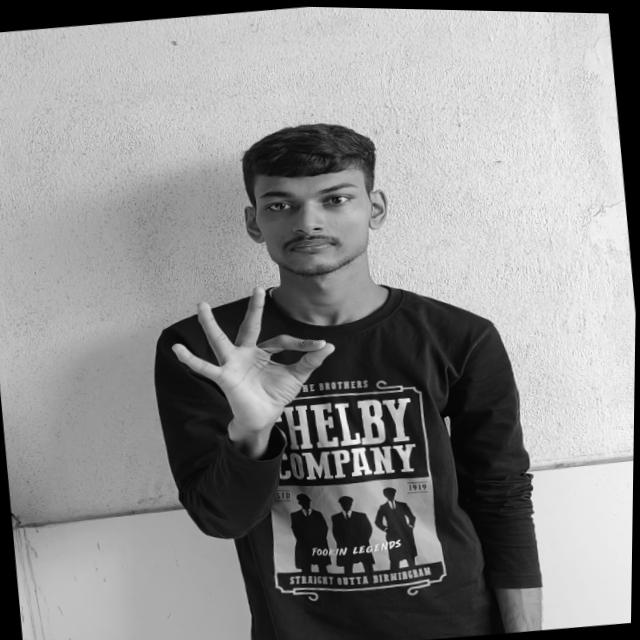Superb: (163, 270, 348, 430)
